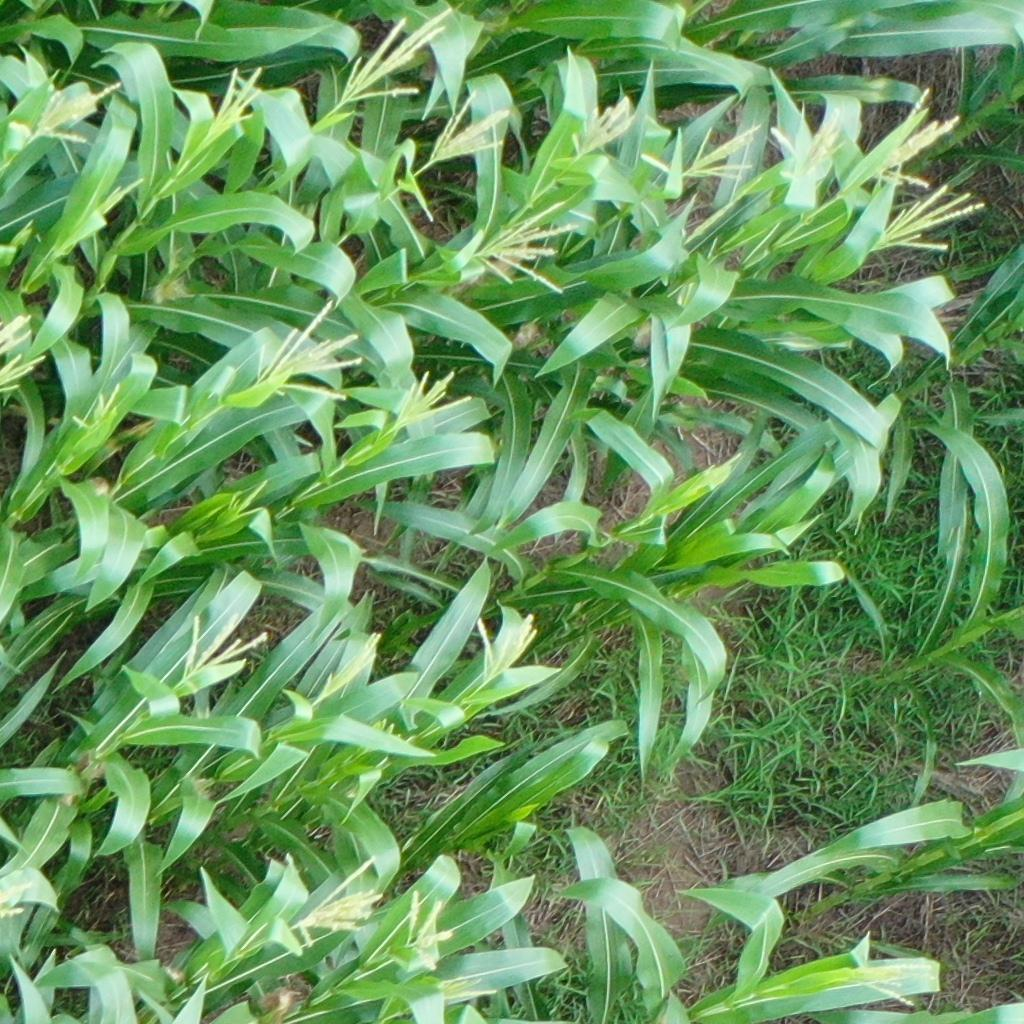Tassel: (258, 296, 372, 407), (341, 5, 456, 108), (474, 197, 585, 298), (286, 853, 391, 957), (863, 86, 959, 193), (877, 182, 996, 262), (428, 85, 519, 170), (177, 612, 266, 694), (35, 77, 124, 152), (775, 102, 848, 186), (201, 63, 267, 149), (689, 119, 767, 188), (389, 365, 470, 431), (563, 96, 639, 162), (315, 633, 385, 703), (472, 614, 541, 683), (850, 956, 938, 1005), (406, 885, 452, 955), (71, 382, 122, 437), (691, 446, 744, 498), (96, 176, 151, 223), (427, 969, 495, 1007), (224, 477, 275, 524), (1, 351, 50, 390), (1, 313, 38, 359)
